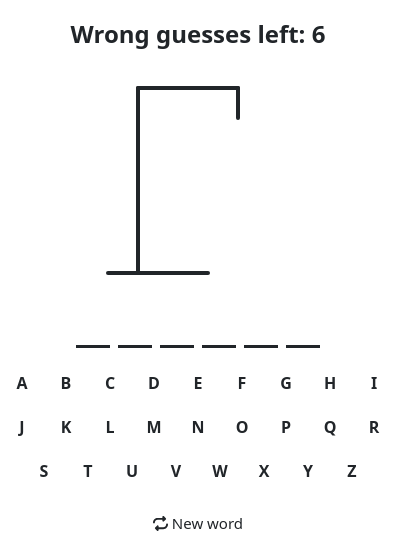
Test: guessing every letter wins
Click the button "p" at (286, 427), box [267,408,305,446]
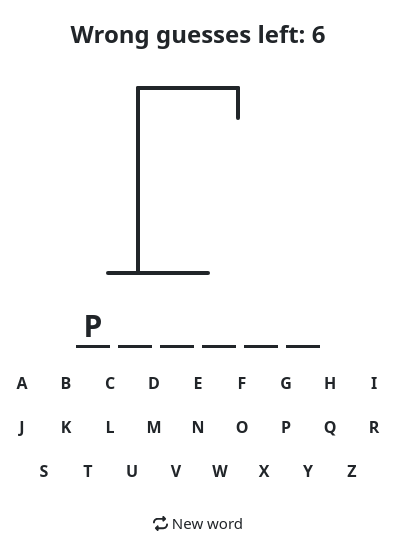
Click the button "y" at (308, 471), box [289,452,327,490]
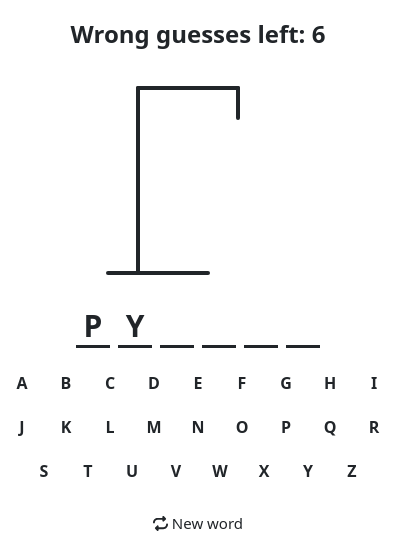
Click the button "t" at (88, 471), box [69,452,107,490]
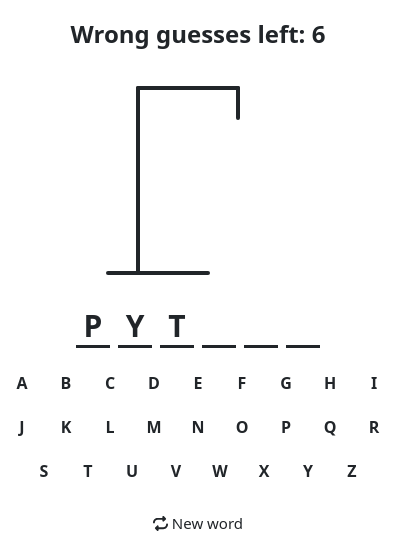
Click the button "h" at (330, 383), box [311,364,349,402]
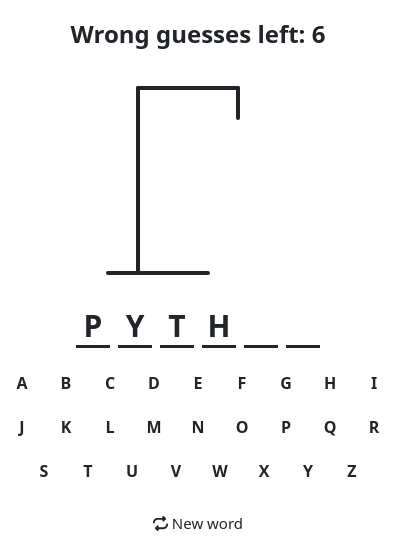
Click the button "o" at (242, 427), box [223,408,261,446]
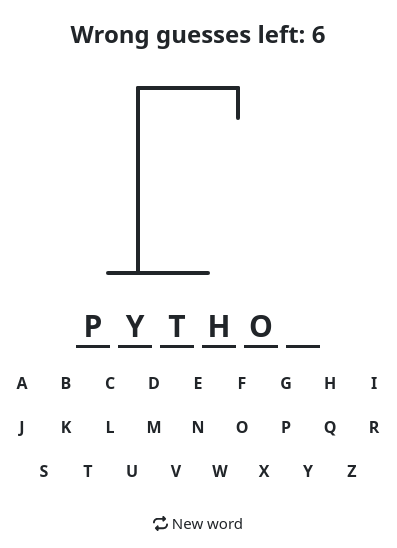
Click the button "n" at (198, 427), box [179,408,217,446]
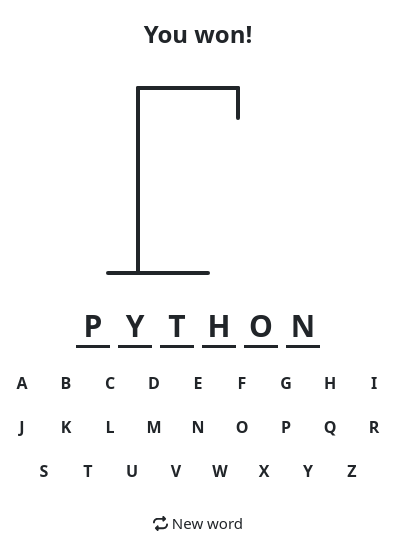
Expected: the text "You won!" is shown, [144,16,252,52]
